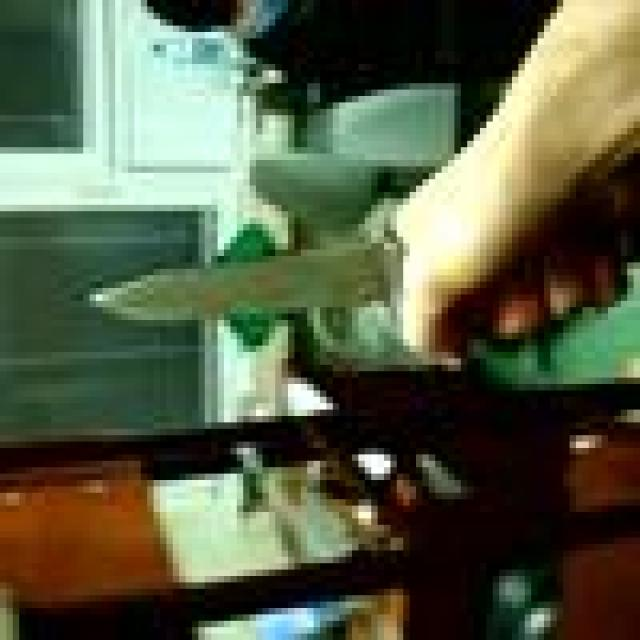knife: (83, 255, 411, 308)
